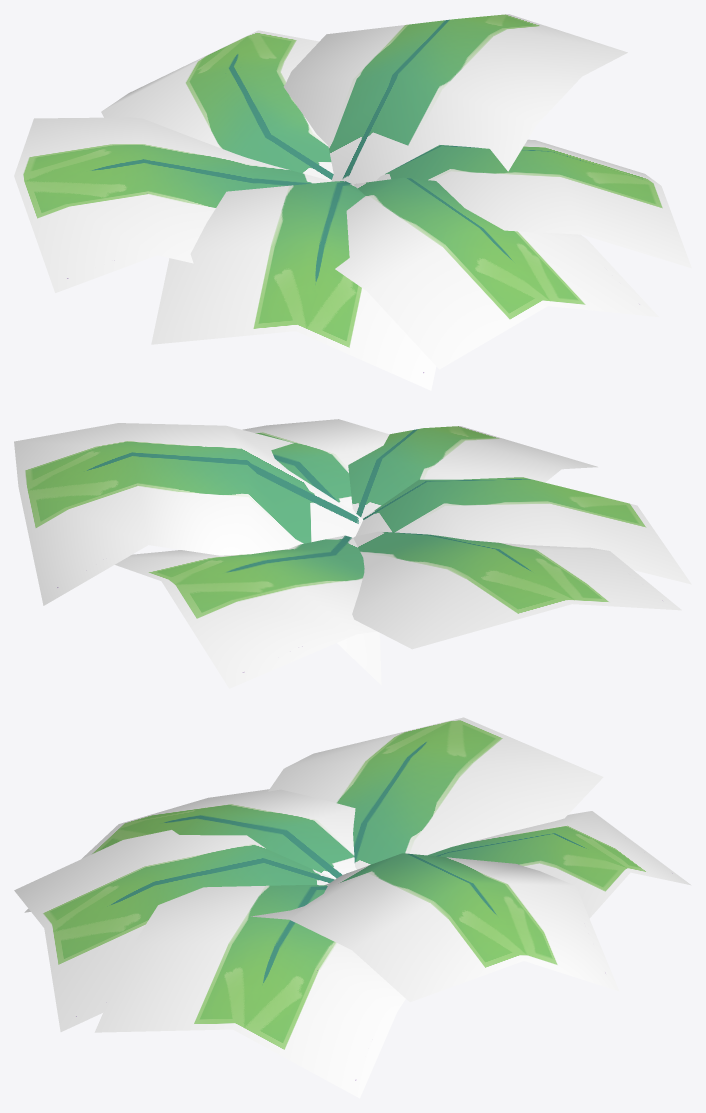
The model's file is Plant_1.fbx.
3 views of the same model, one above another, from view 1: azimuth 30°, elevation 25°; view 2: azimuth 150°, elevation 25°; view 3: azimuth 270°, elevation 25° (orthographic).
Parts seen in each view (by area): view 1: Object019; view 2: Object019; view 3: Object019.
Boxes of the visible parts, x1=… form: Object019: x1=14, y1=14, x2=691, y2=390; Object019: x1=14, y1=419, x2=691, y2=688; Object019: x1=14, y1=717, x2=691, y2=1098.
Size of the model in its own units: 31.15 by 8.6 by 29.57.
